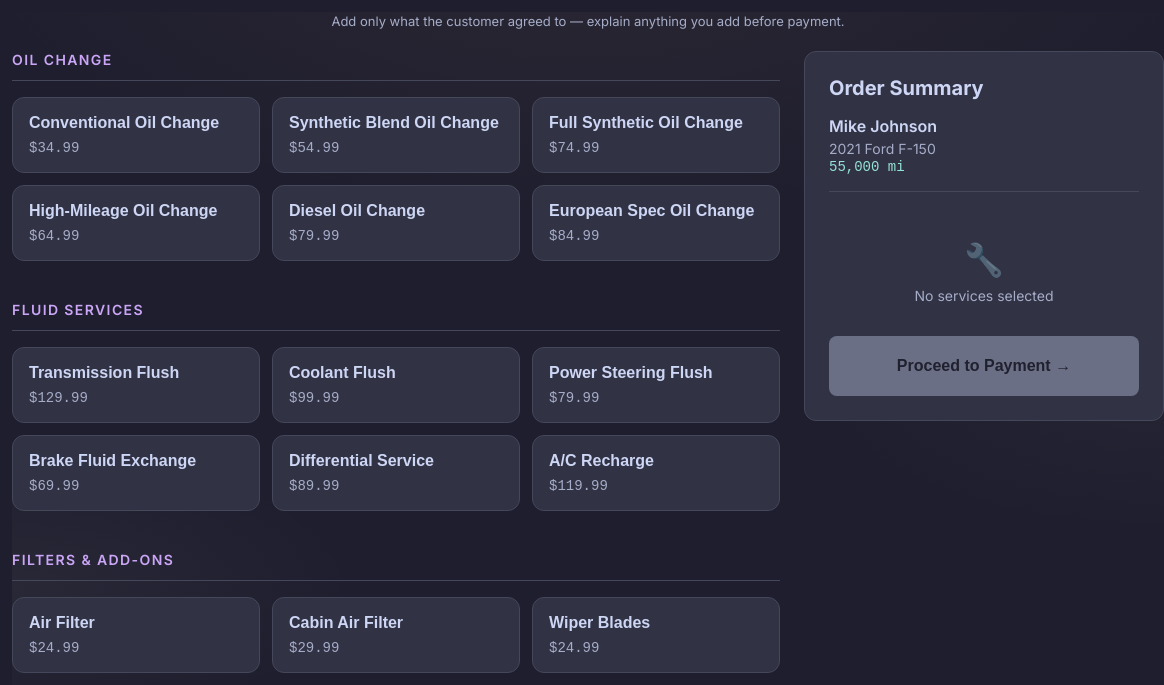
ServicesScreen › Proceed to Payment button - enabled after selecting at least one service
Expected: the button "Proceed to Payment →" is disabled, top-left (829, 336), bottom-right (1139, 396)
Click a service
Click the text "Air Filter" at (62, 623), box top-left (29, 614), bottom-right (95, 632)
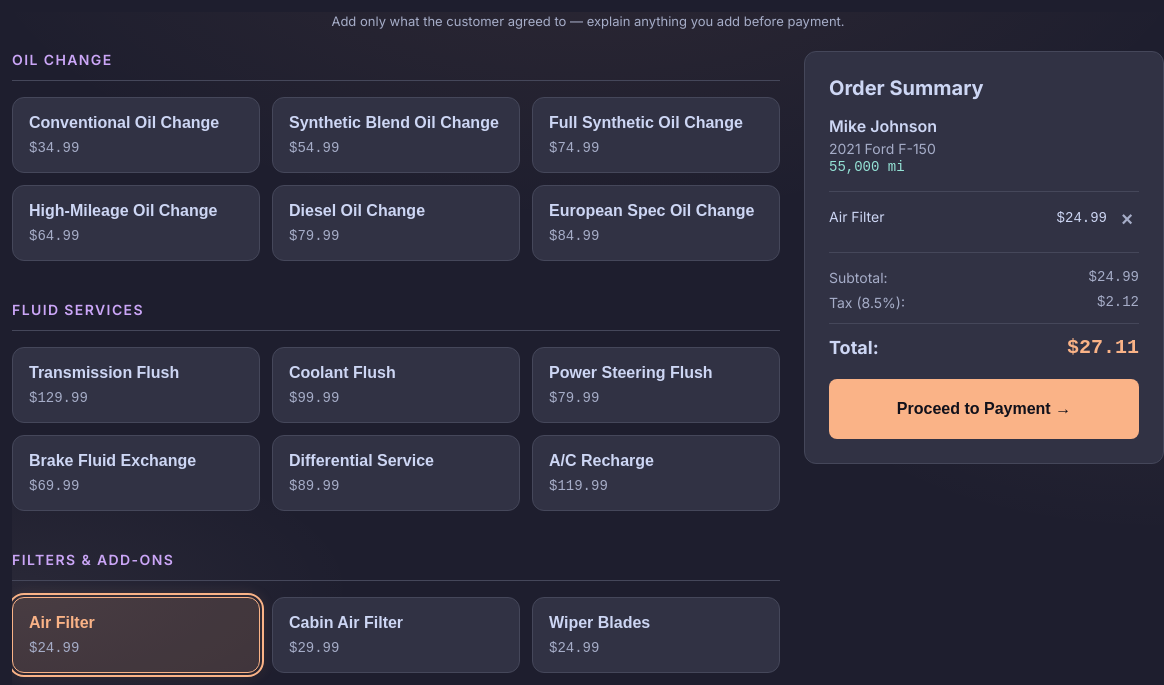
Expected: the button "Proceed to Payment →" is enabled, top-left (829, 379), bottom-right (1139, 439)
